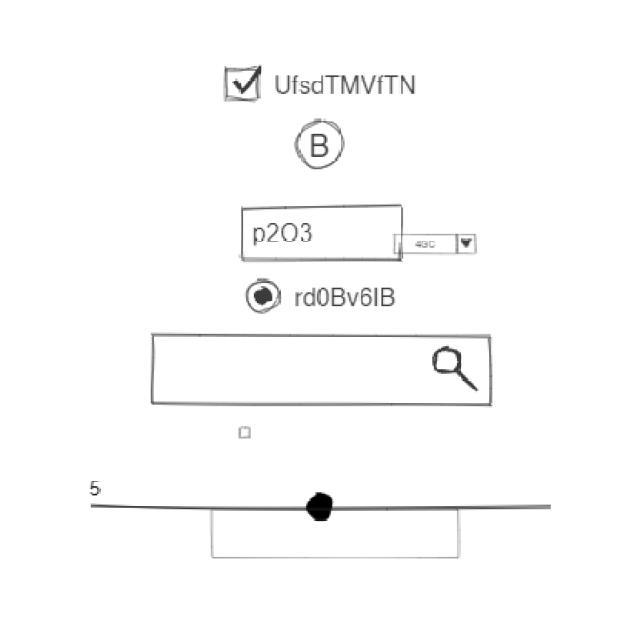checkbox: (223, 63, 422, 104)
icon-button: (295, 118, 347, 172)
input: (239, 204, 407, 266)
radio: (246, 278, 399, 318)
search: (150, 332, 495, 410)
select: (392, 233, 480, 258)
slider: (118, 491, 555, 523)
